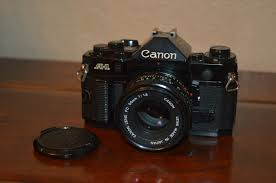camera: (80, 41, 236, 144)
